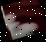dent: (1, 0, 46, 42)
